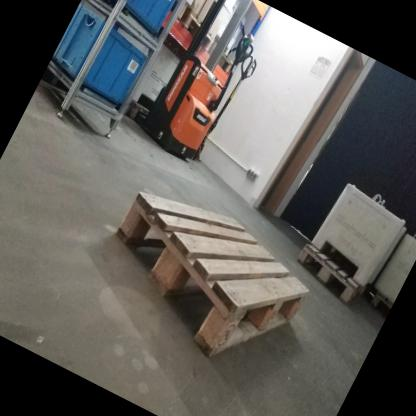BoxFace: (111, 188, 313, 367)
